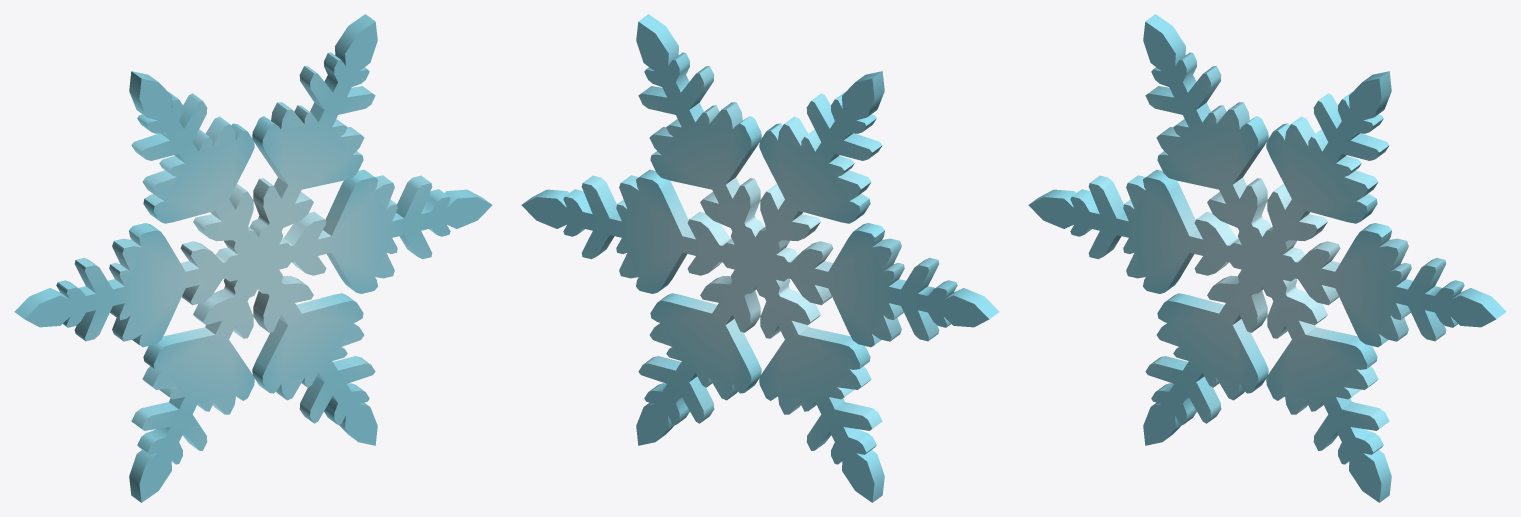
File: snowflake_001.fbx
3 renders of one model, left to right at view 1: azimuth 30°, elevation 25°; view 2: azimuth 150°, elevation 25°; view 3: azimuth 330°, elevation 25°, orthographic.
Visible parts, largest first — view 1: snowflake_001; view 2: snowflake_001; view 3: snowflake_001.
Part boxes in pixels (box(x1,y1,x2,y2)): snowflake_001: box(14, 14, 492, 502); snowflake_001: box(521, 14, 999, 502); snowflake_001: box(1028, 14, 1506, 502).
Size of the model in its own units: 673 by 25.68 by 583.
